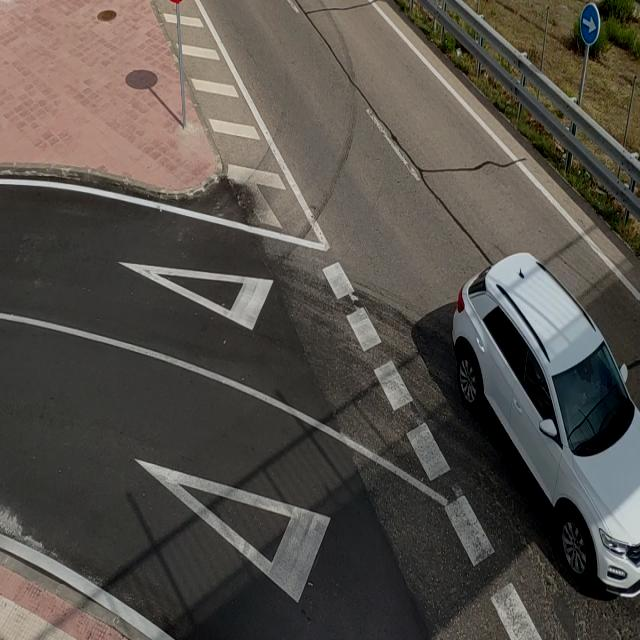Car: (426, 230, 640, 607)
